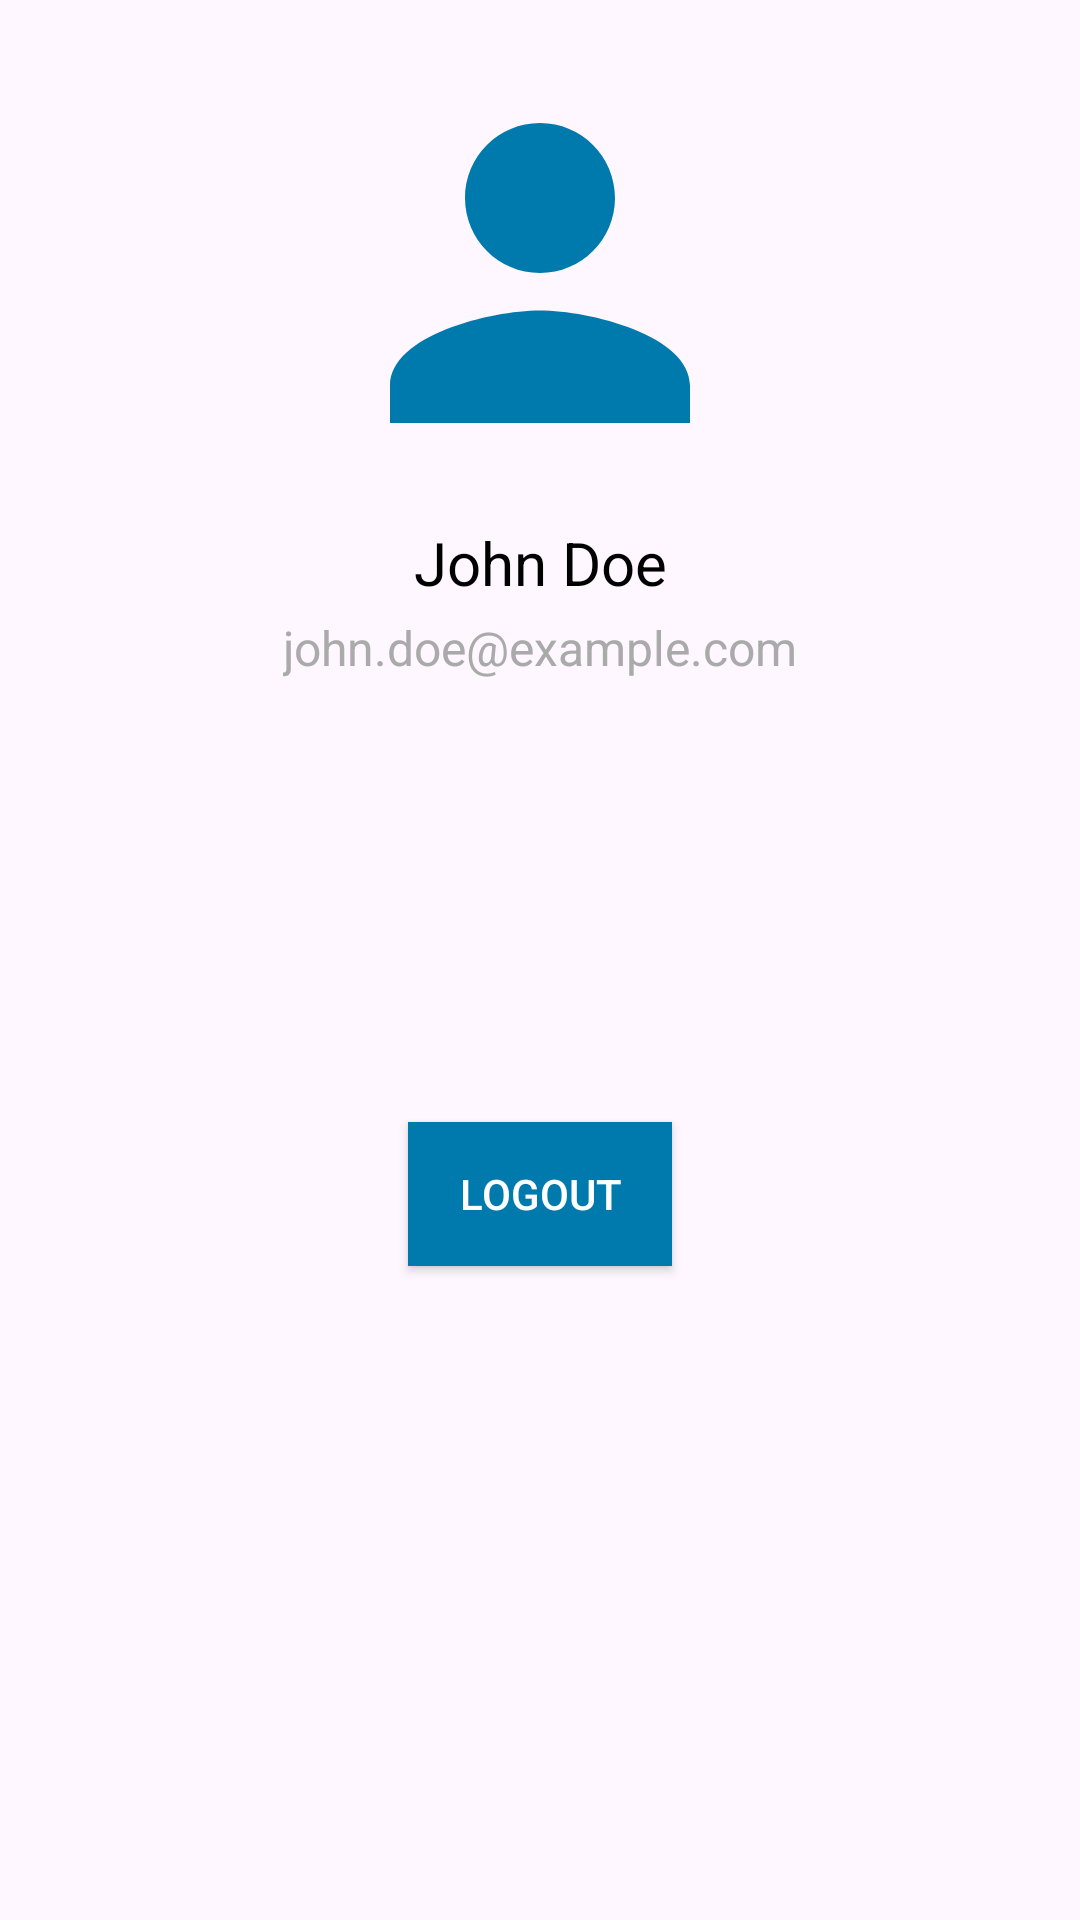

Icon bounding boxes for this 1080 × 1920 phone screenshot, format (x1, y1, x2, y2):
profile picture: (390, 123, 690, 423)
